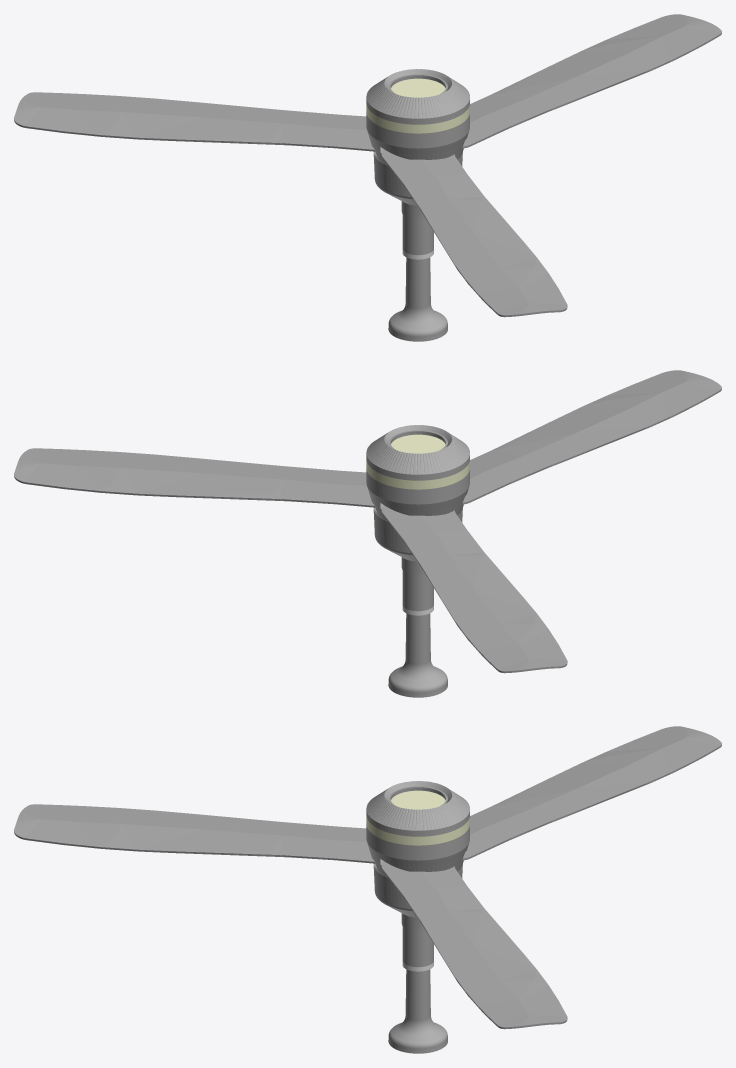
The model's file is 2nd-working-fan.glb.
3 views of the same model, one above another, from view 1: azimuth 30°, elevation 25°; view 2: azimuth 150°, elevation 25°; view 3: azimuth 270°, elevation 25° (orthographic).
Parts seen in each view (by area): view 1: Node5, Node3, Node2, Node6; view 2: Node5, Node3, Node2, Node6; view 3: Node5, Node3, Node2, Node6.
Boxes of the visible parts, left/top/right/bottom form: Node5: left=14, top=14, right=721, bottom=341; Node3: left=366, top=69, right=469, bottom=218; Node2: left=366, top=76, right=469, bottom=118; Node6: left=366, top=78, right=469, bottom=133; Node5: left=14, top=370, right=721, bottom=697; Node3: left=366, top=425, right=469, bottom=574; Node2: left=366, top=432, right=469, bottom=474; Node6: left=366, top=434, right=469, bottom=489; Node5: left=14, top=726, right=721, bottom=1053; Node3: left=366, top=781, right=469, bottom=930; Node2: left=366, top=786, right=469, bottom=830; Node6: left=366, top=790, right=469, bottom=845.
Size of the model in its own units: 1029 by 389 by 1015.
